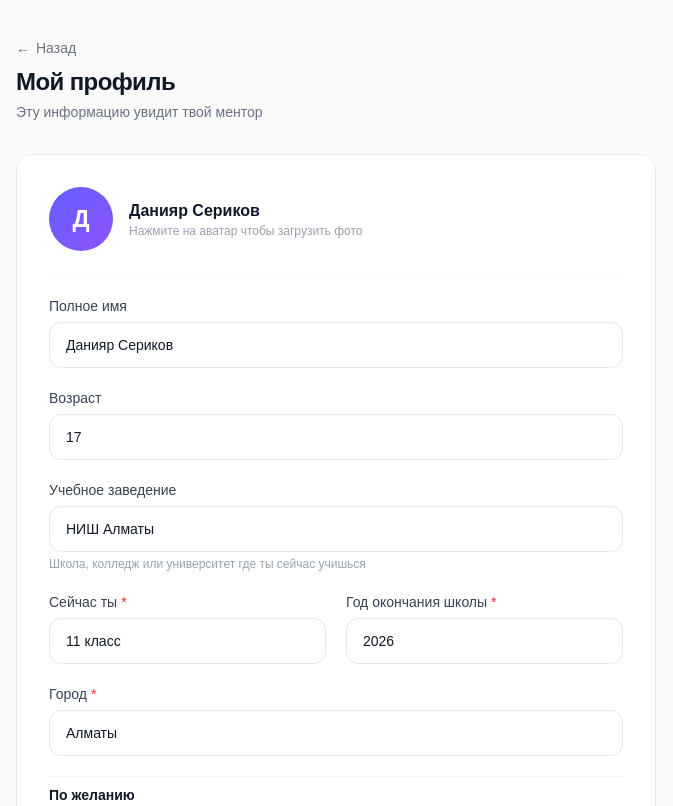
Test case: StudentProfilePage (app/students/profile) › authenticated student › saves the profile and shows a success confirmation
The width and height of the screenshot is (673, 806).
Replace the text in the field showing "Данияр Сериков" below "Полное имя" with "Данияр Ахметов". click: (336,345)
box: [49,322,623,368]
(page scrolled)
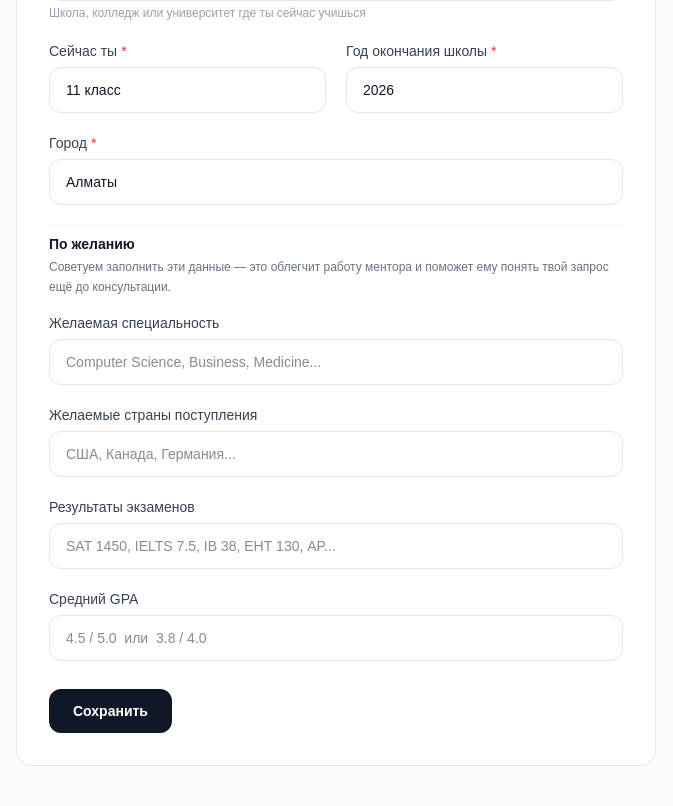
Click the button "Сохранить". click: (110,711)
box: [49,689,172,733]
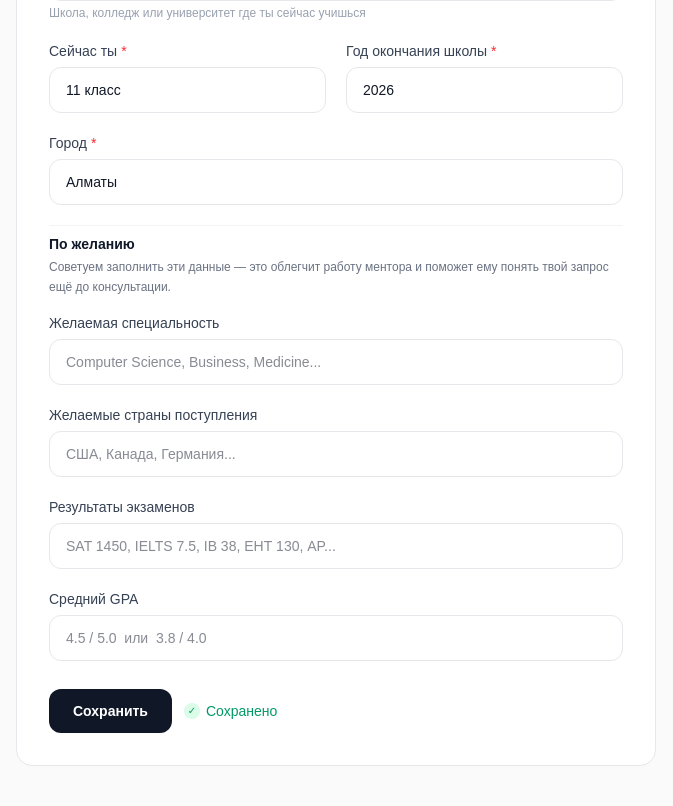
Check: the text "Сохранено" is shown, box [206,703,277,719]
